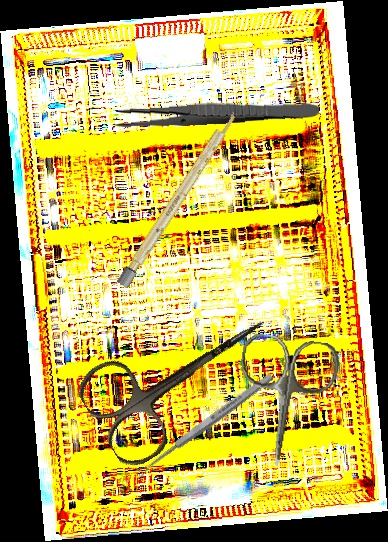Dressing Forceps: (113, 96, 320, 130)
Iris Scissors: (70, 278, 294, 474), (227, 331, 342, 473)
Scalpel Handle: (116, 108, 240, 289)
Surgical Spoon: (134, 371, 275, 479)
